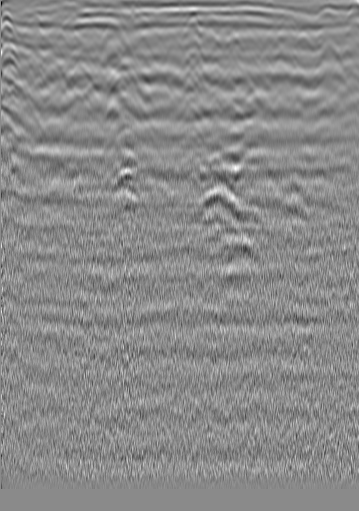가스: (100, 167, 151, 201)
상수: (42, 36, 62, 56)
오수: (321, 38, 341, 58)
우수: (157, 28, 177, 48)
